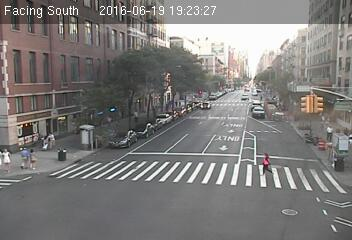neg: (93, 39, 118, 73), (149, 168, 173, 200), (269, 193, 293, 225), (80, 168, 102, 198), (212, 133, 231, 159), (125, 127, 144, 152), (308, 134, 327, 159), (265, 68, 284, 93), (227, 52, 246, 77), (301, 172, 320, 197), (215, 190, 234, 214), (41, 53, 59, 78), (183, 44, 201, 67), (183, 92, 200, 115), (53, 144, 69, 166), (126, 82, 142, 103), (83, 124, 98, 143), (308, 89, 322, 108)
pos: (256, 149, 275, 175), (1, 146, 17, 168), (16, 145, 32, 166), (27, 148, 43, 168)
